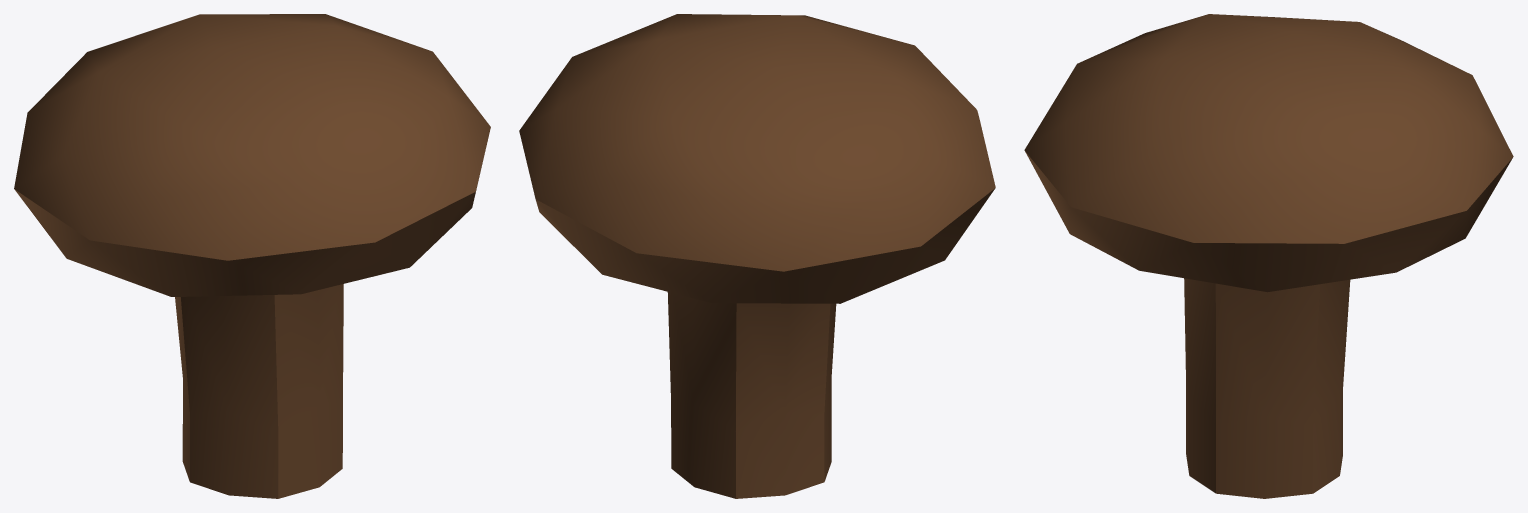
The model's file is mushroom.dae.
The picture shows the model from 3 angles, left to right: view 1: azimuth 30°, elevation 25°; view 2: azimuth 150°, elevation 25°; view 3: azimuth 270°, elevation 25°; orthographic projection.
Visible parts, largest first — view 1: mushroom; view 2: mushroom; view 3: mushroom.
Part boxes in pixels (bbox=[...]): mushroom: bbox=[14, 14, 490, 498]; mushroom: bbox=[519, 14, 995, 498]; mushroom: bbox=[1024, 14, 1513, 498].
Size of the model in its own units: 0.1752 by 0.184 by 0.173.
